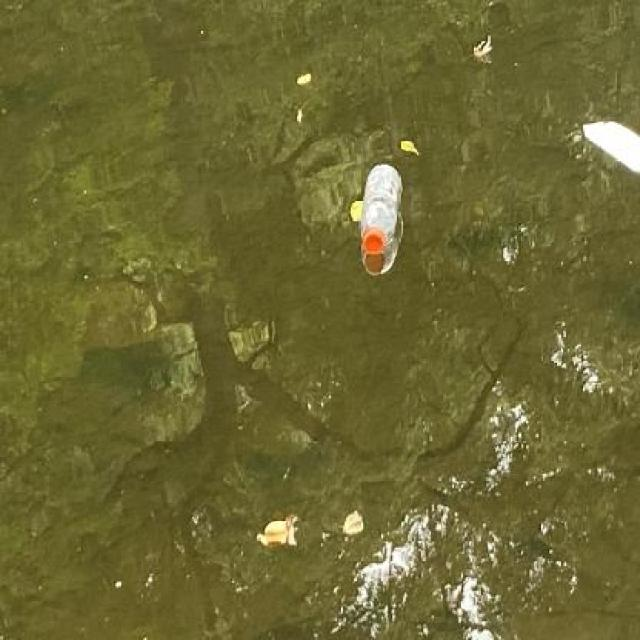Paper: (583, 110, 640, 181)
Plastic: (356, 155, 409, 263)
